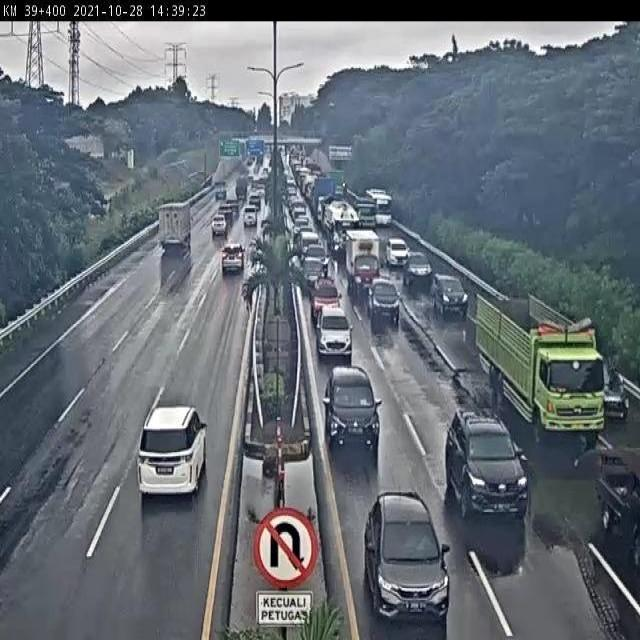Bus: (368, 188, 398, 226)
Car: (358, 489, 454, 629), (440, 413, 538, 526), (134, 406, 212, 498), (321, 366, 390, 463), (363, 280, 406, 328), (318, 307, 356, 359), (433, 275, 470, 320), (312, 281, 342, 314), (404, 254, 433, 288), (219, 242, 245, 278), (386, 240, 411, 268), (302, 262, 329, 286), (292, 228, 322, 249), (304, 244, 331, 264), (288, 203, 309, 228), (211, 215, 228, 239)
Truck: (471, 286, 612, 446), (342, 233, 384, 297), (157, 201, 196, 253), (322, 200, 362, 248), (309, 180, 336, 221), (297, 169, 317, 195), (213, 182, 229, 202), (235, 178, 251, 197)
Van: (241, 206, 261, 229)
